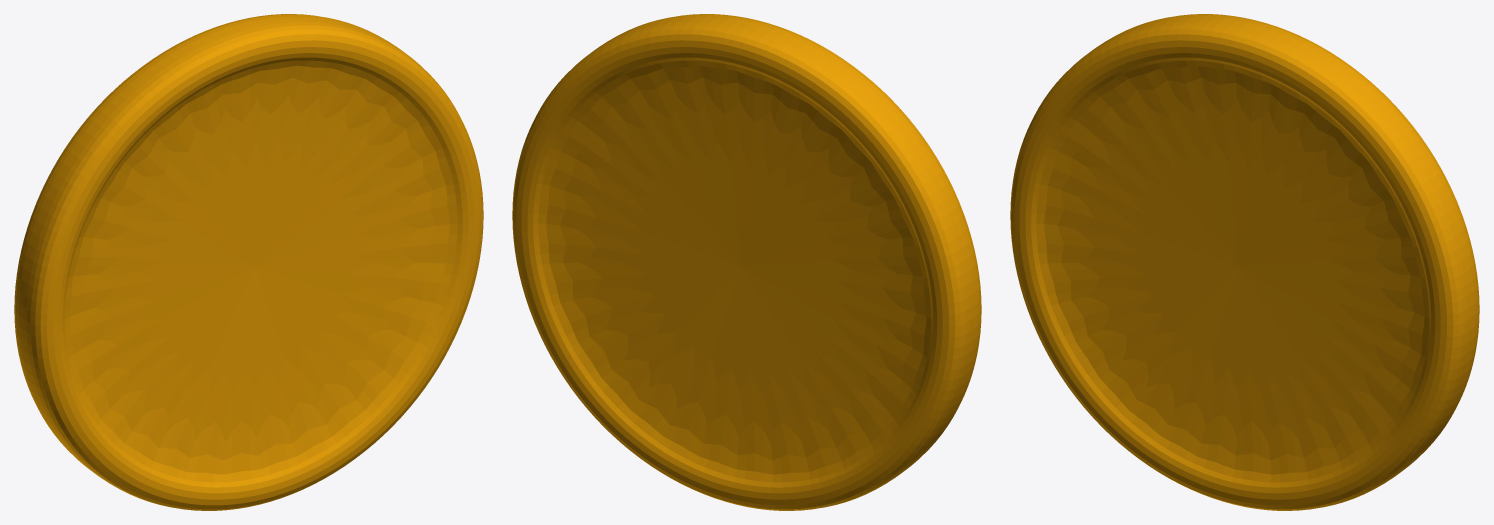
Rendered from Coin.gltf.
The picture shows the model from 3 angles, left to right: view 1: azimuth 30°, elevation 25°; view 2: azimuth 150°, elevation 25°; view 3: azimuth 330°, elevation 25°; orthographic projection.
Visible parts, largest first — view 1: Coin; view 2: Coin; view 3: Coin.
Part boxes in pixels (x1,y1,x2,y2): Coin: [14, 14, 483, 510]; Coin: [512, 14, 981, 510]; Coin: [1010, 14, 1479, 510].
Size of the model in its own units: 1.99 by 1.99 by 0.2256.
